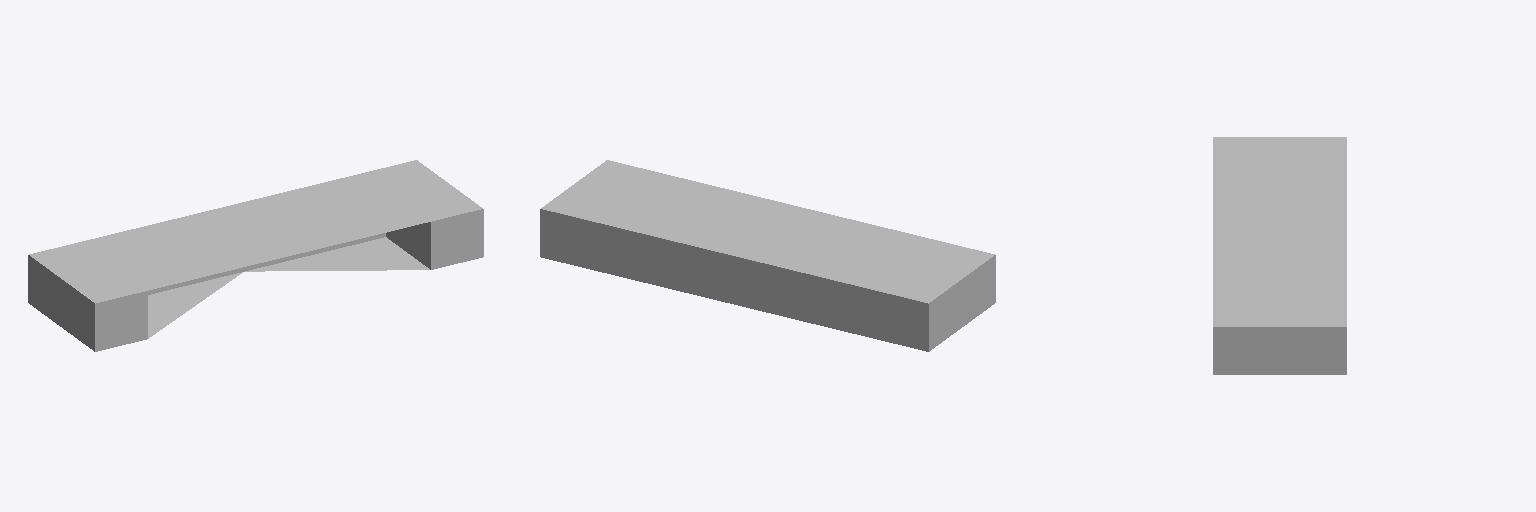
Rendered from handle.obj.
3 renders of one model, left to right at view 1: azimuth 30°, elevation 25°; view 2: azimuth 150°, elevation 25°; view 3: azimuth 270°, elevation 25°, orthographic.
Visible parts, largest first — view 1: Cube.011_Cube.002; view 2: Cube.011_Cube.002; view 3: Cube.011_Cube.002.
Part boxes in pixels (x1,y1,x2,y2): Cube.011_Cube.002: (28,160,483,351); Cube.011_Cube.002: (540,160,995,351); Cube.011_Cube.002: (1213,137,1346,374).
Bounding box in the file's own units: 0.3831 × 0.0458 × 0.1142.